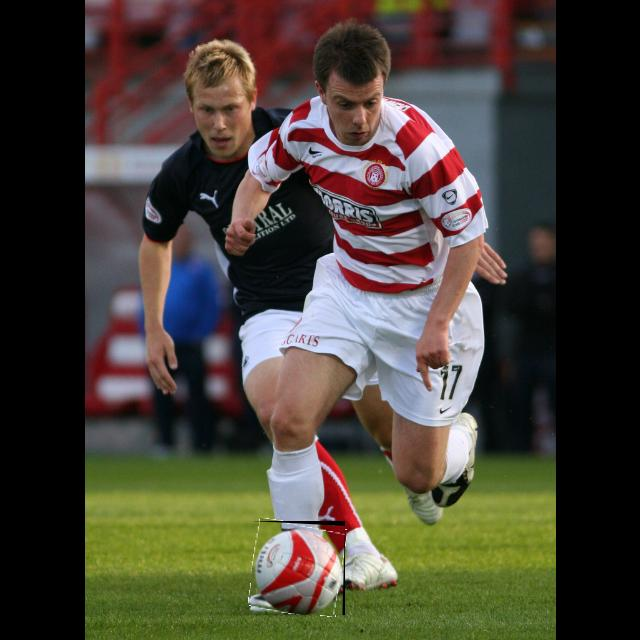Football: (251, 521, 345, 615)
